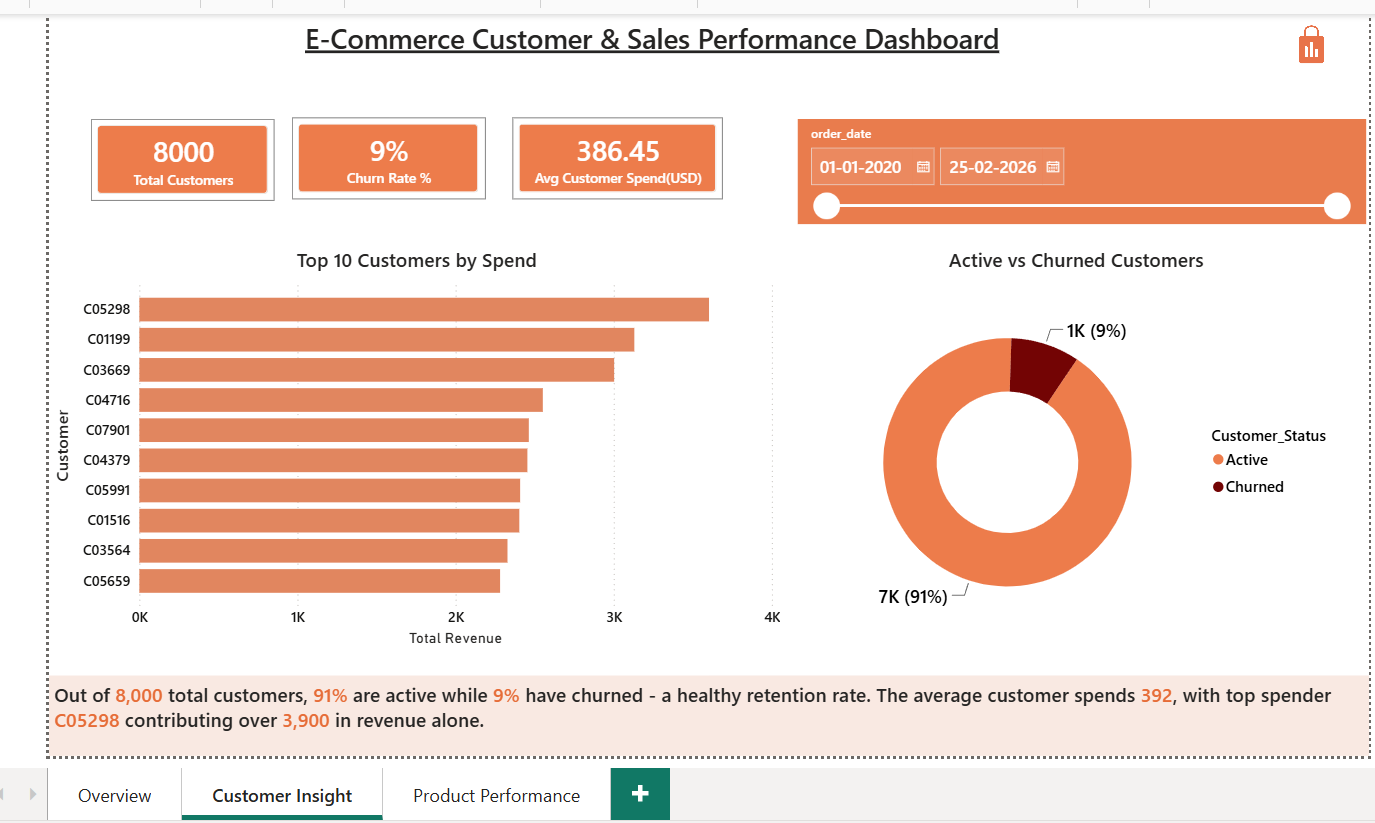

Layout of this report page (visuals, bound fields, positions):
{"tool":"powerbi","page":{"name":"Customer Insight","canvas":[1280,720],"ordinal":1},"visuals":[{"type":"textbox","box":[203.7,0,763,55.6],"z":0},{"type":"image","box":[1175.9,0,103.7,72.2],"z":1000},{"type":"cardVisual","fields":{"Data":["customers.Total Customers"]},"box":[40.5,102,178.1,79.3],"z":2000},{"type":"cardVisual","fields":{"Data":["customers.Churn Rate %"]},"box":[236.4,100.4,187.8,79.3],"z":3000},{"type":"cardVisual","fields":{"Data":["customers.Avg Customer Spend"]},"box":[450.1,100.4,204,79.3],"z":4000},{"type":"donutChart","title":"Active vs Churned Customers","fields":{"Category":["customers.Customer_Status"],"Y":["customers.Total Customers"]},"box":[727,225.1,540.8,393.5],"z":5000},{"type":"barChart","title":"Top 10 Customers by Spend","fields":{"Category":["customers.customer_id"],"Y":["customers.Total Revenue"]},"box":[0,225.1,714.1,391.9],"z":6000},{"type":"textbox","box":[0,642.6,1281.5,77.8],"z":7000},{"type":"slicer","fields":{"Values":["orders.order_date"]},"box":[727,102,552.2,102],"z":8000}]}

Visuals, with their boxes on the page's 1280x720 design canvas (x1, y1, x2, y2). These are canvas units, not pixel positions in the 1375x823 screenshot, which may show the page scaled, cropped or inside an application window:
textbox: bbox=(204, 0, 967, 56)
image: bbox=(1176, 0, 1280, 72)
cardVisual - customers.Total Customers: bbox=(40, 102, 219, 181)
cardVisual - customers.Churn Rate %: bbox=(236, 100, 424, 180)
cardVisual - customers.Avg Customer Spend: bbox=(450, 100, 654, 180)
"Active vs Churned Customers" donutChart: bbox=(727, 225, 1268, 619)
"Top 10 Customers by Spend" barChart: bbox=(0, 225, 714, 617)
textbox: bbox=(0, 643, 1282, 720)
slicer - orders.order_date: bbox=(727, 102, 1279, 204)
